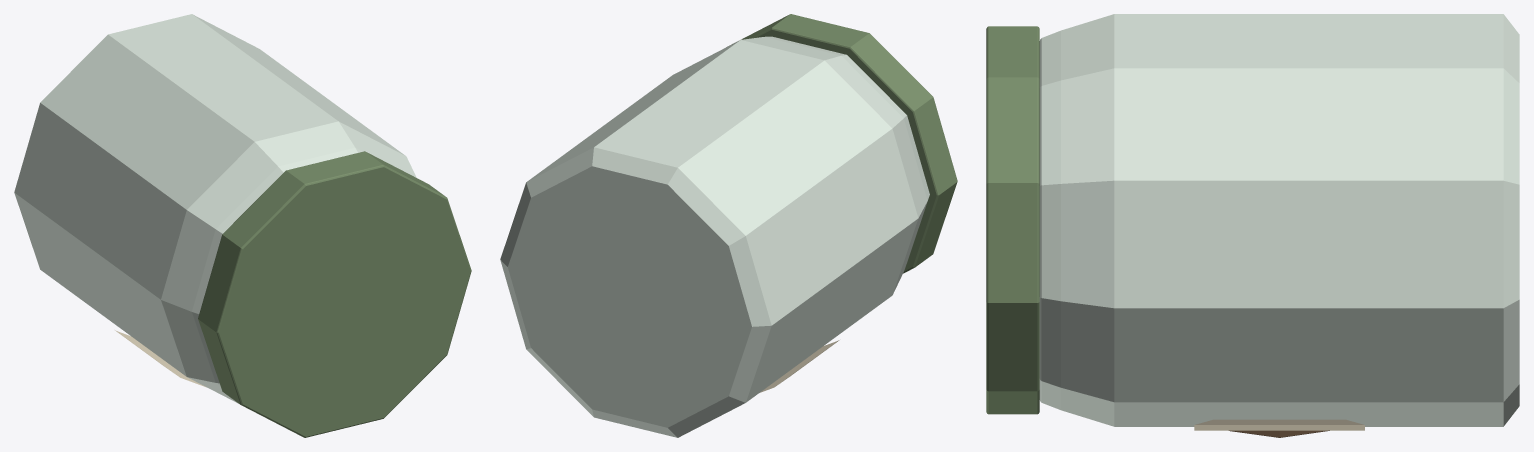
The model's file is coconut_oil.glb.
3 views of the same model, side by side, from view 1: azimuth 30°, elevation 25°; view 2: azimuth 150°, elevation 25°; view 3: azimuth 270°, elevation 25° (orthographic). The views are drawn at different scales.
Parts seen in each view (by area): view 1: coconut_oil; view 2: coconut_oil; view 3: coconut_oil.
Boxes of the visible parts, <box> form: coconut_oil: <box>14,14,471,437</box>; coconut_oil: <box>500,14,957,437</box>; coconut_oil: <box>986,14,1519,437</box>.
Size of the model in its own units: 0.078 by 0.0793 by 0.1.
